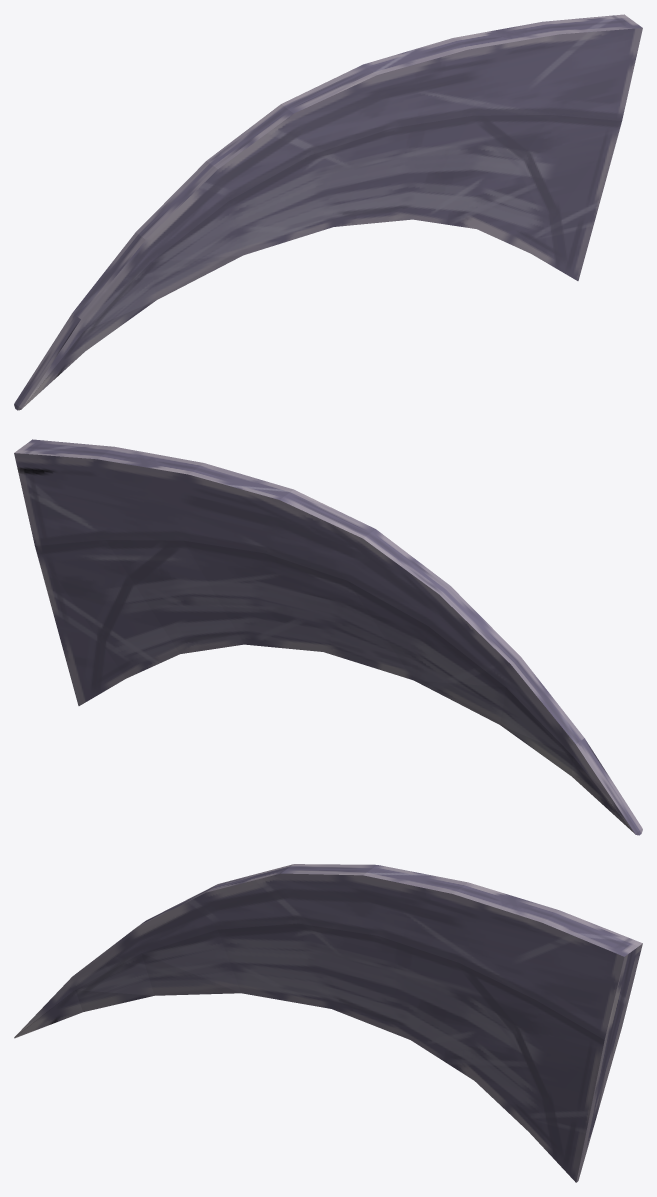
File: knife_blade.fbx
3 views of the same model, one above another, from view 1: azimuth 30°, elevation 25°; view 2: azimuth 150°, elevation 25°; view 3: azimuth 330°, elevation 25° (orthographic).
Visible parts, largest first — view 1: knife_blade; view 2: knife_blade; view 3: knife_blade.
Boxes of the visible parts, box(x1,y1,x2,y2) form: knife_blade: box(14, 14, 642, 410); knife_blade: box(14, 439, 642, 835); knife_blade: box(14, 864, 642, 1182).
Bounding box in the file's own units: 0.3936 × 0.1618 × 0.0205.
